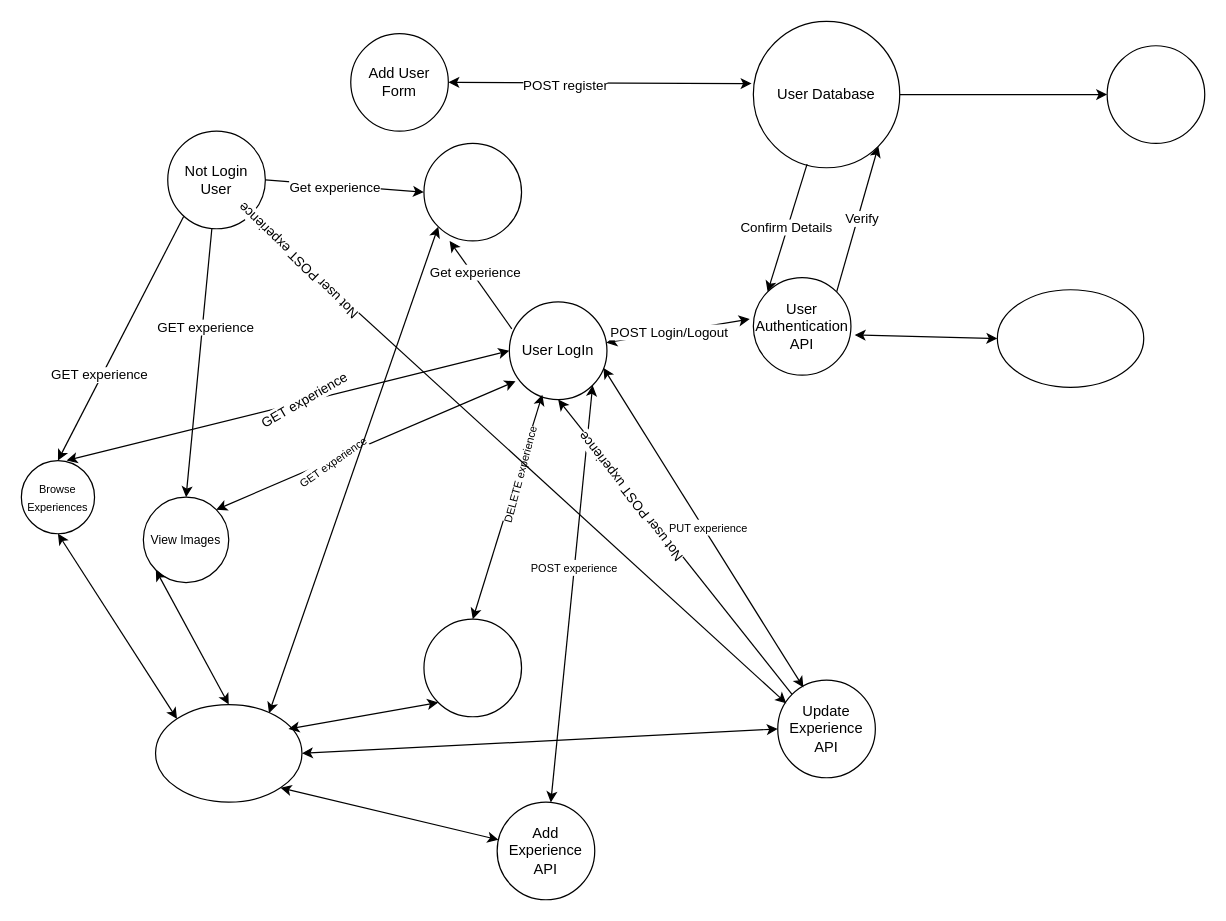
Image size: 1226x921. Some labels were removed from this diagram. Here are the shapes that lost their labels. From the top down, the centre of each, then its label:
[1155,94]: Error/No User Found
[472,191]: Error/No Location Found
[1070,338]: Authentication Tokens
[472,667]: Delete Experience API
[228,752]: Location Database
